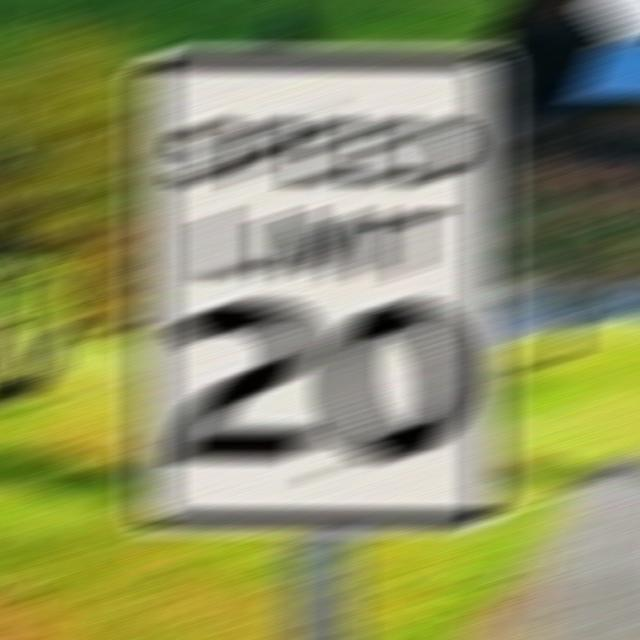speedLimit20: (130, 45, 498, 526)
